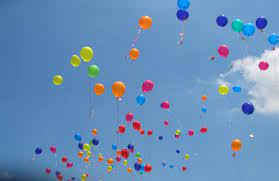Balloon: (111, 81, 126, 97), (138, 15, 153, 30), (241, 101, 256, 115), (140, 79, 154, 93), (80, 46, 93, 61), (231, 18, 243, 33), (87, 64, 99, 78), (176, 9, 189, 21), (216, 14, 228, 27), (217, 44, 229, 57), (230, 139, 242, 151), (256, 17, 267, 30), (93, 82, 104, 95), (176, 1, 191, 10), (129, 48, 140, 60), (268, 32, 279, 44), (258, 60, 269, 71), (218, 84, 229, 95), (70, 55, 80, 67), (135, 95, 146, 105), (53, 75, 63, 85), (124, 112, 134, 122), (160, 100, 170, 109), (133, 120, 141, 130), (121, 148, 129, 158), (144, 163, 152, 172), (118, 125, 126, 133), (35, 146, 43, 154), (92, 137, 99, 146), (75, 133, 82, 141), (134, 162, 141, 170), (50, 145, 56, 154), (83, 143, 90, 150), (91, 128, 98, 135), (107, 157, 114, 164), (200, 127, 208, 133), (201, 105, 207, 112), (201, 94, 207, 101), (77, 151, 83, 158), (127, 143, 134, 149), (147, 129, 153, 136), (163, 120, 169, 126), (62, 155, 67, 162), (46, 167, 51, 174), (188, 130, 194, 135), (175, 129, 181, 134), (182, 165, 187, 171), (158, 135, 163, 141), (175, 148, 181, 153), (185, 154, 189, 159)
